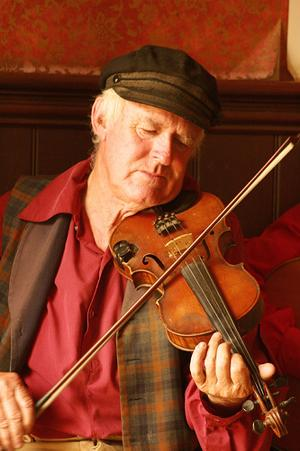person: (1, 46, 277, 451)
